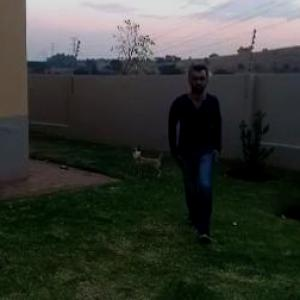follow: (164, 56, 222, 232)
